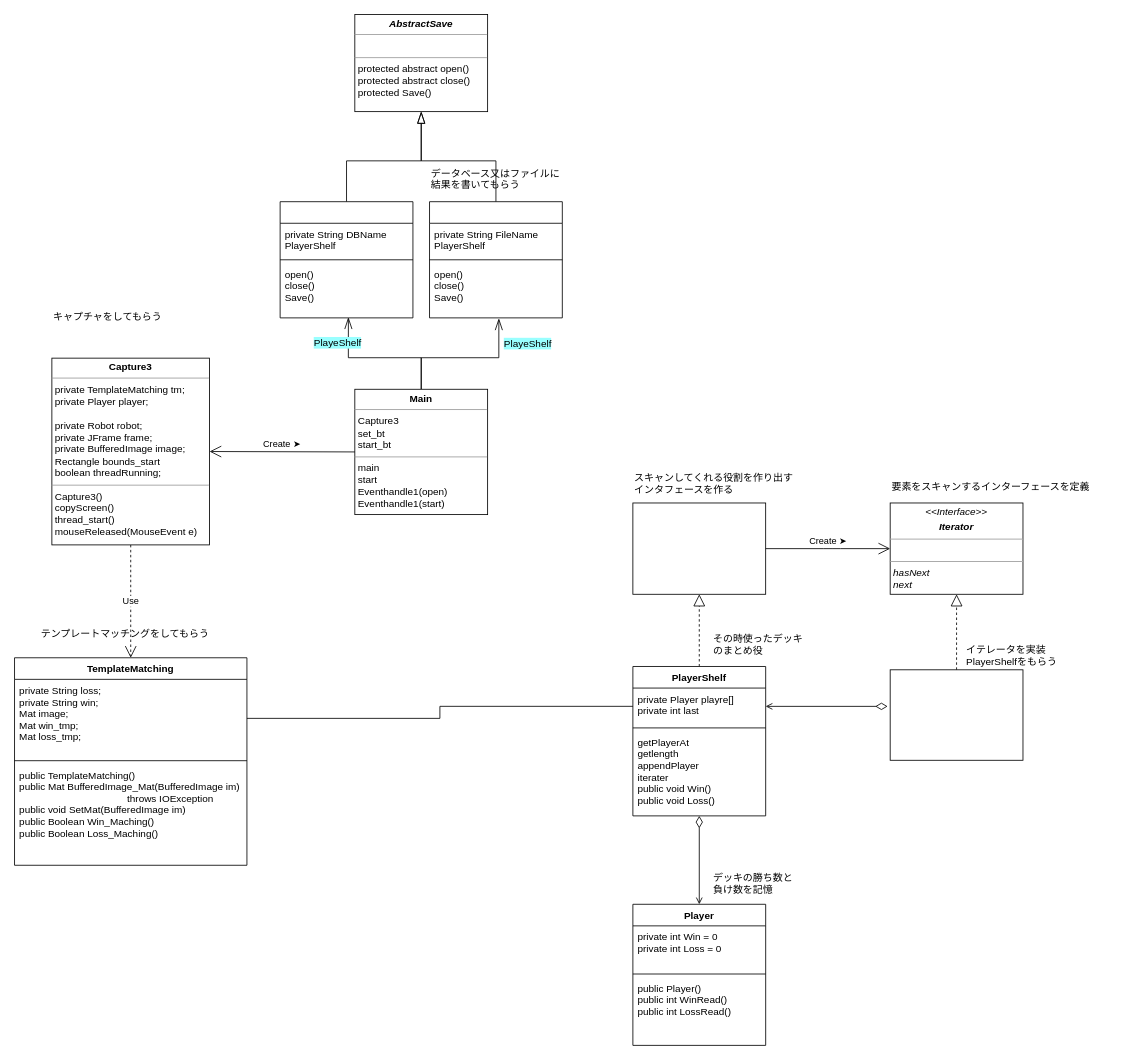
Image size: 1121x1062. Some labels were removed from this diagram. The box of each missing label's shape, as (x1, y1, x2, y2) in pixels:
<<Interface>> Aggregate iterator: (632, 502, 766, 594)
DBReader: (279, 201, 413, 318)
FileReader: (429, 201, 562, 318)
PlayerShelfIterater PlayerShelf playershelf index hasNext next: (889, 669, 1023, 760)
